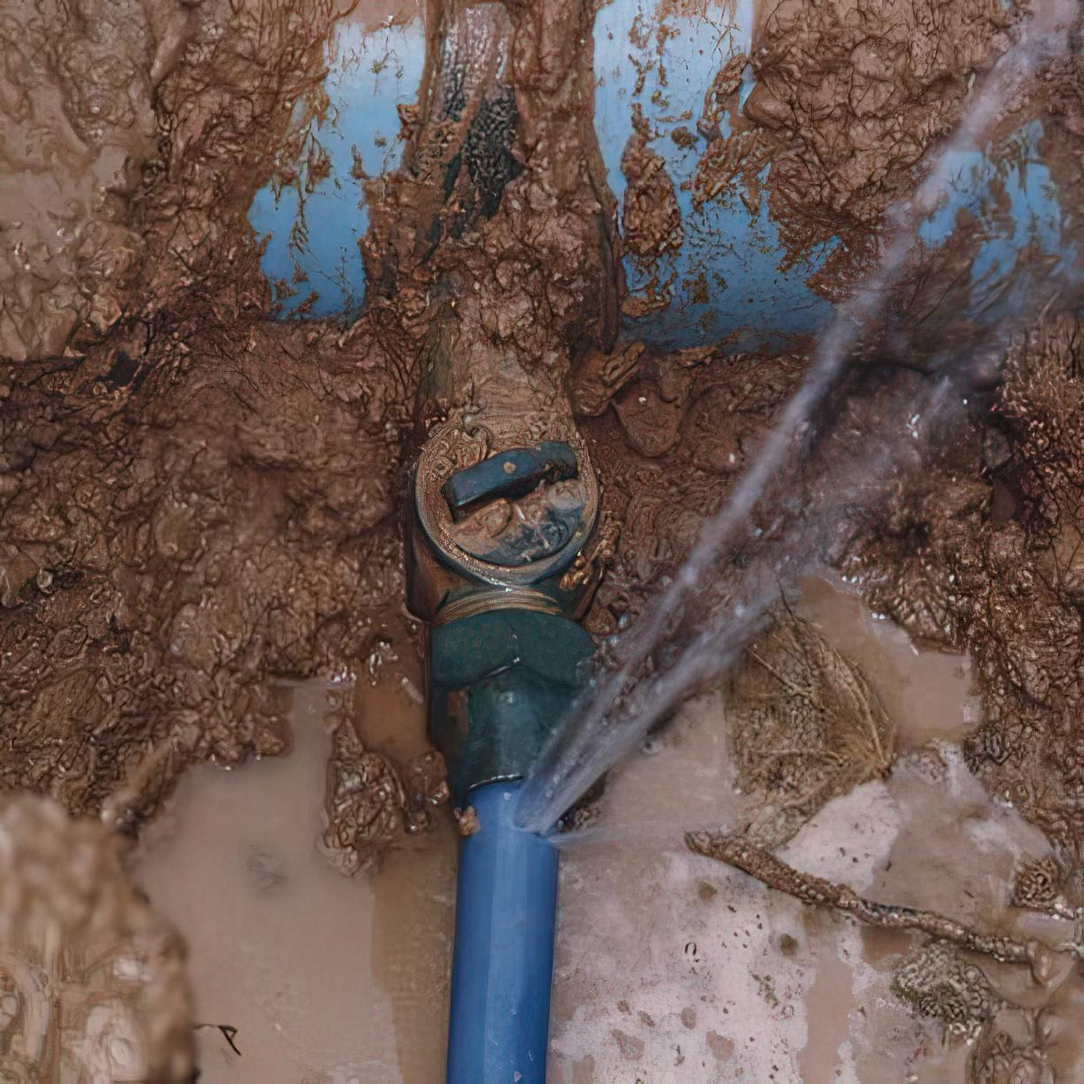pipe burst: (497, 18, 1075, 856)
water accumulation: (128, 565, 1084, 1084)
